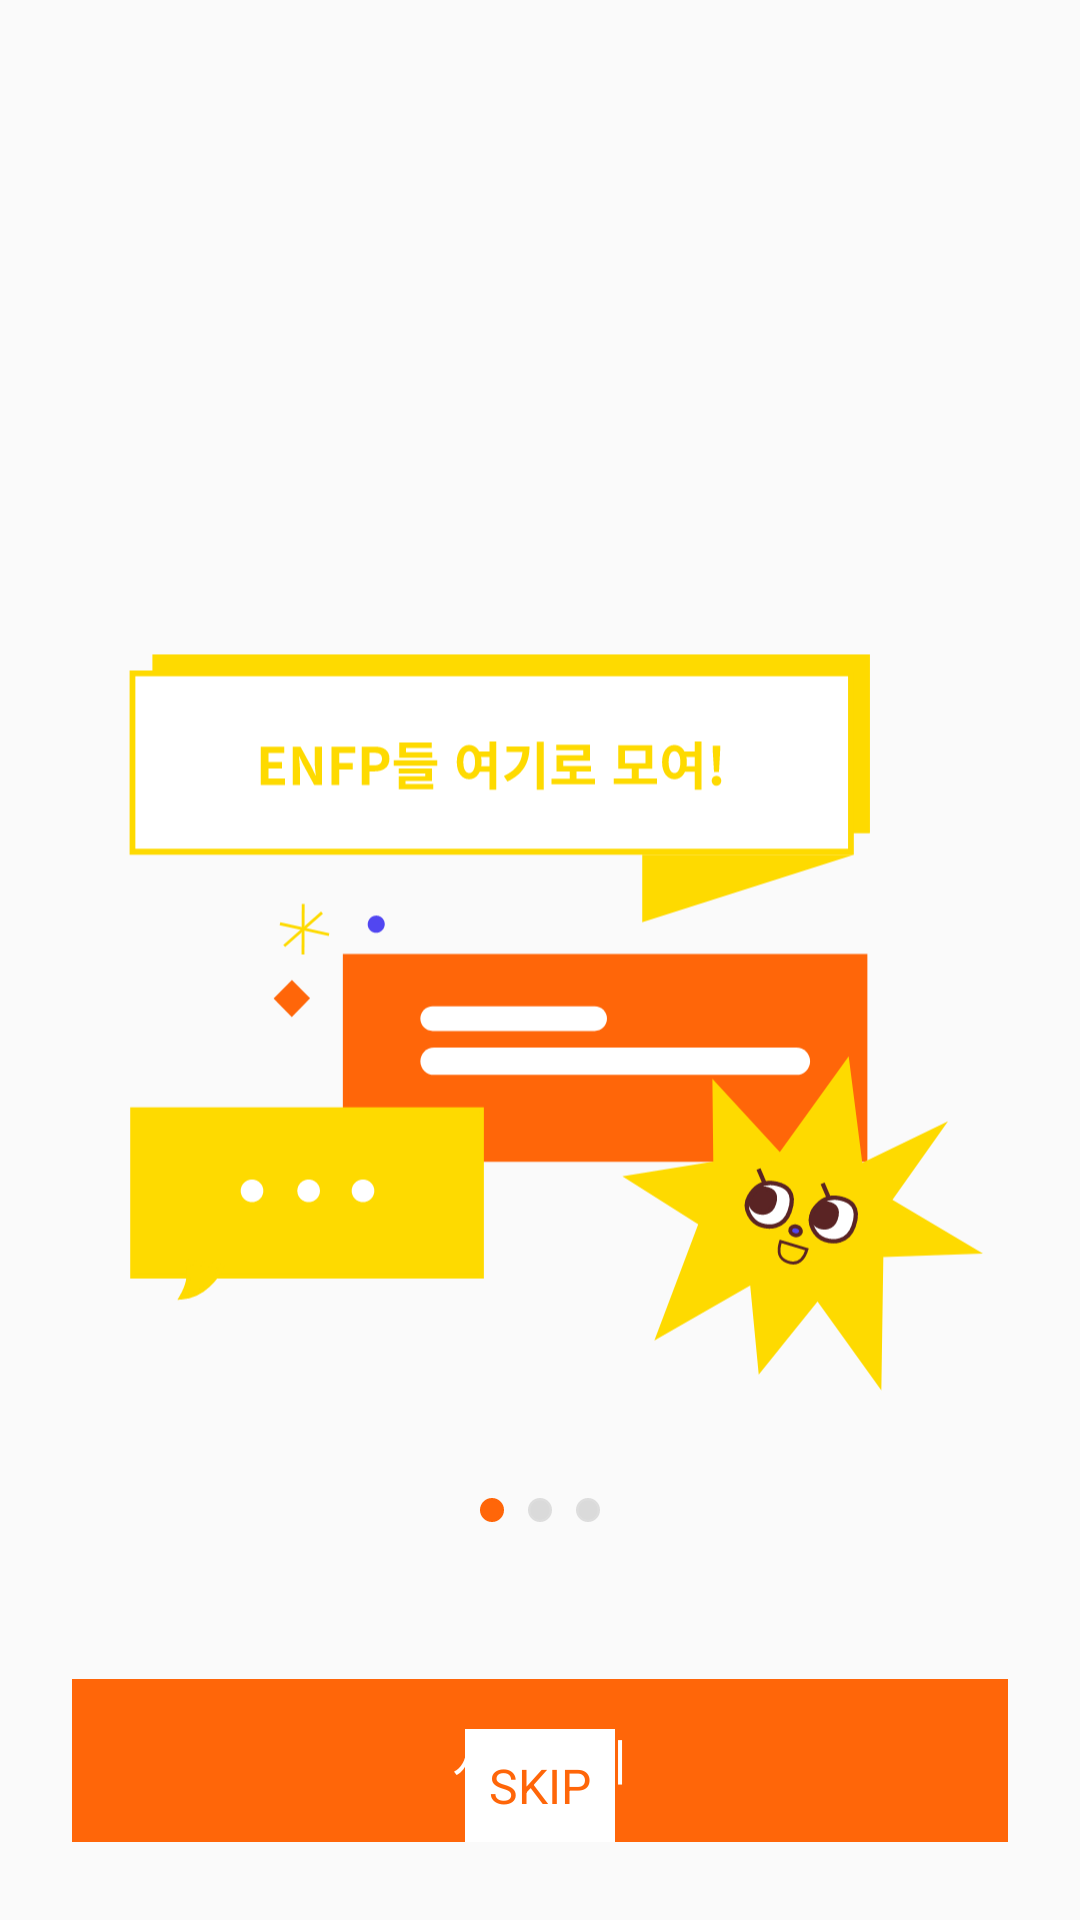

Where icons sit on this 1080x1920 app screen, as (x1, y1, x2, y2):
on boarding one dot: (480, 1498, 600, 1522)
